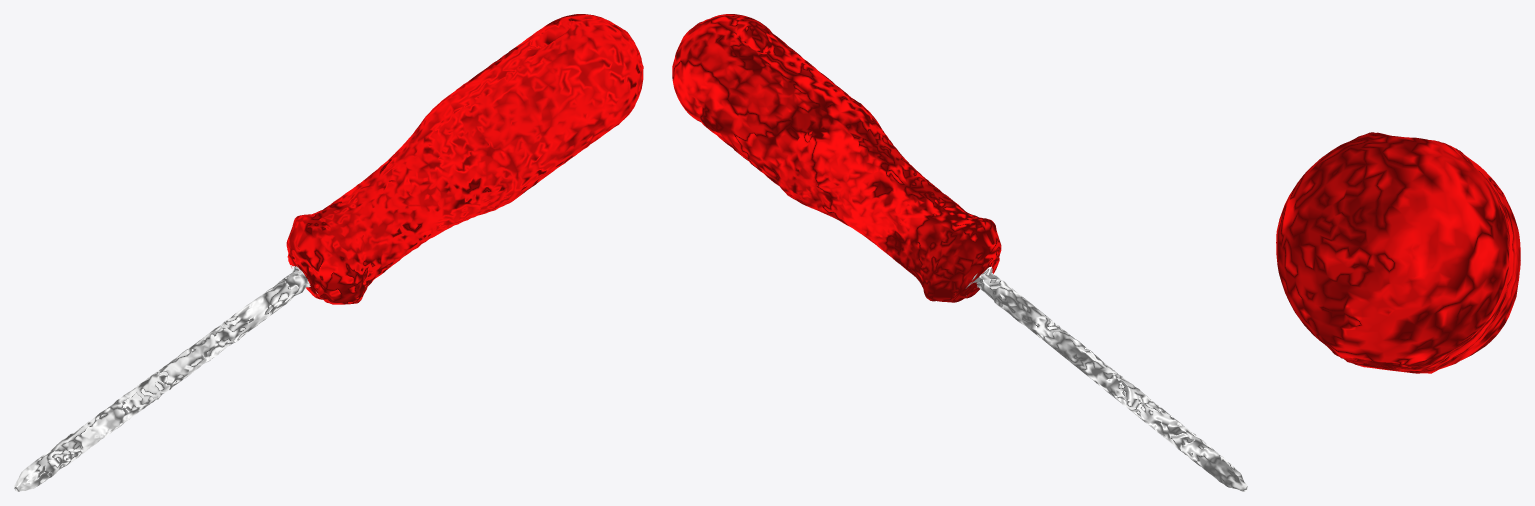
File: screwdriver_vrep.dae
The picture shows the model from 3 angles, left to right: view 1: azimuth 30°, elevation 25°; view 2: azimuth 150°, elevation 25°; view 3: azimuth 270°, elevation 25°; orthographic projection. The views are drawn at different scales.
Parts seen in each view (by area): view 1: Node_0x7f26e149eff0 (×2); view 2: Node_0x7f26e149eff0 (×2); view 3: Node_0x7f26e149eff0.
Boxes of the visible parts, x1,y1,x2,y2 form: Node_0x7f26e149eff0 (×2): (14, 14, 643, 491); Node_0x7f26e149eff0 (×2): (672, 14, 1247, 491); Node_0x7f26e149eff0: (1276, 132, 1520, 373).
Bounding box in the file's own units: 0.1949 × 0.107 × 0.0355.
